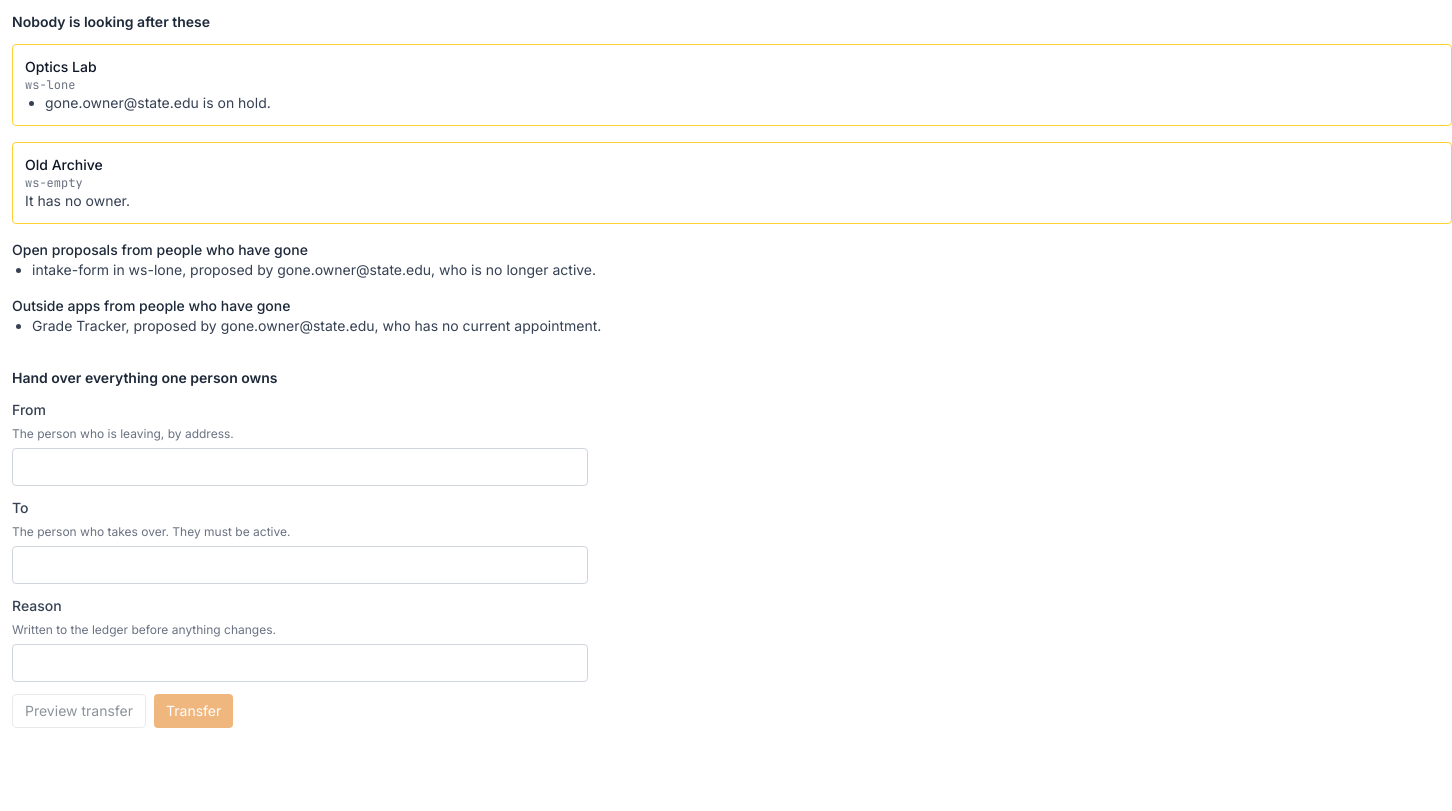
Test: Ownership › states a blocker in a sentence and keeps Transfer off
The width and height of the screenshot is (1452, 811).
Expected: the element with test id "ownership-orphans" is shown, 12,44 -> 1451,336
In the field labelled "From": (300, 467) 12,448 -> 588,486, type "gone.owner@state.edu"
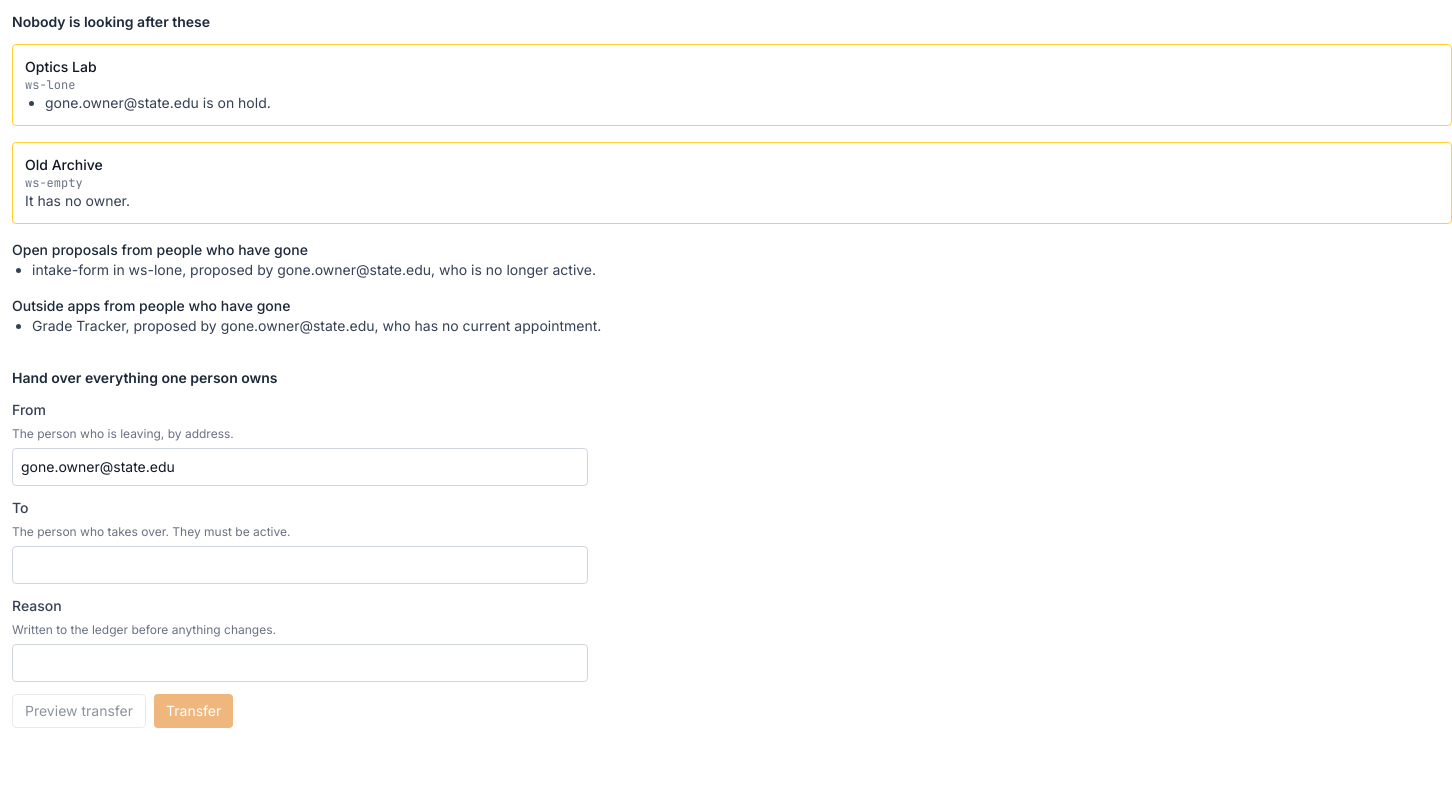
In the field labelled "To": (300, 565) 12,546 -> 588,584, type "new.owner@state.edu"
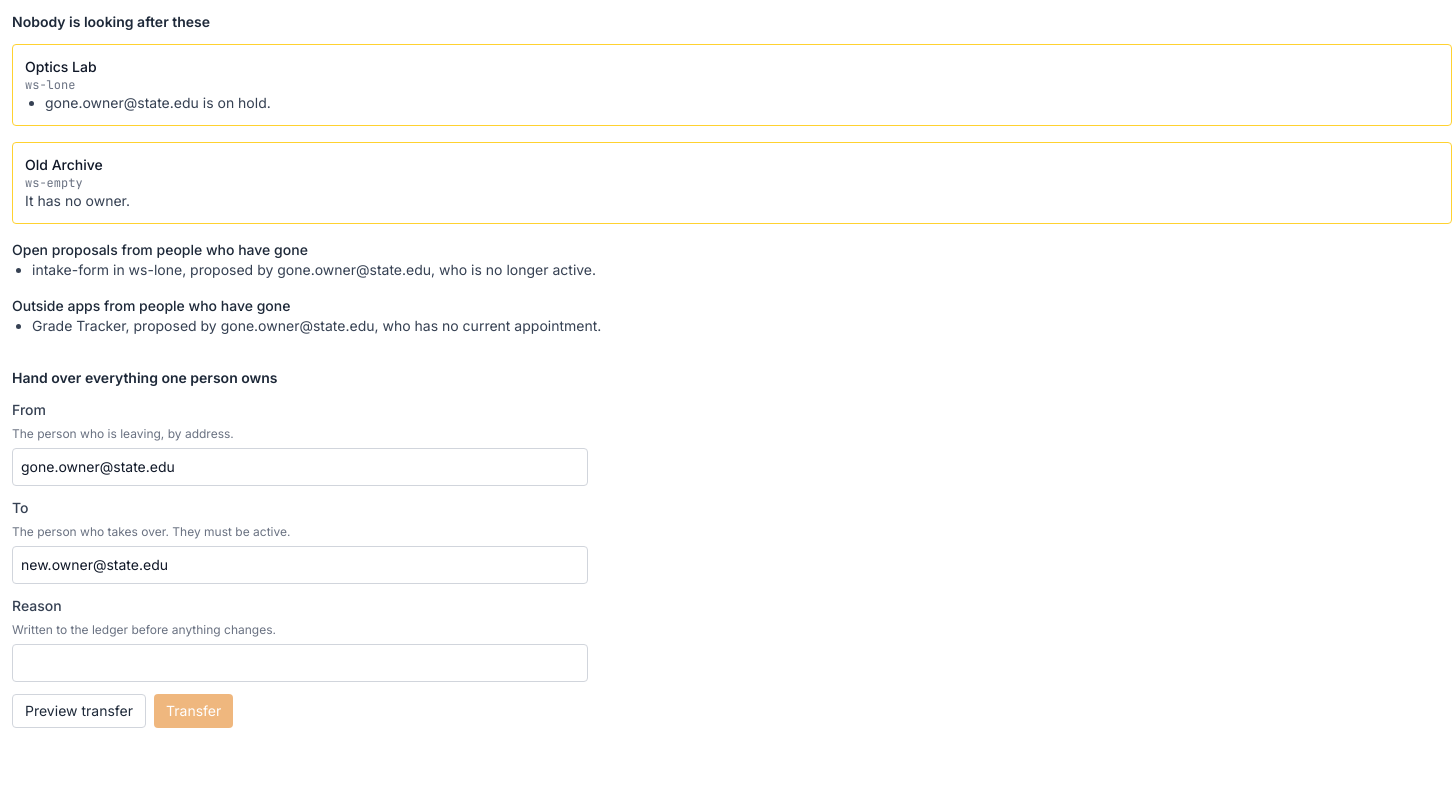
In the field labelled "Reason": (300, 663) 12,644 -> 588,682, type "Moved to another school"
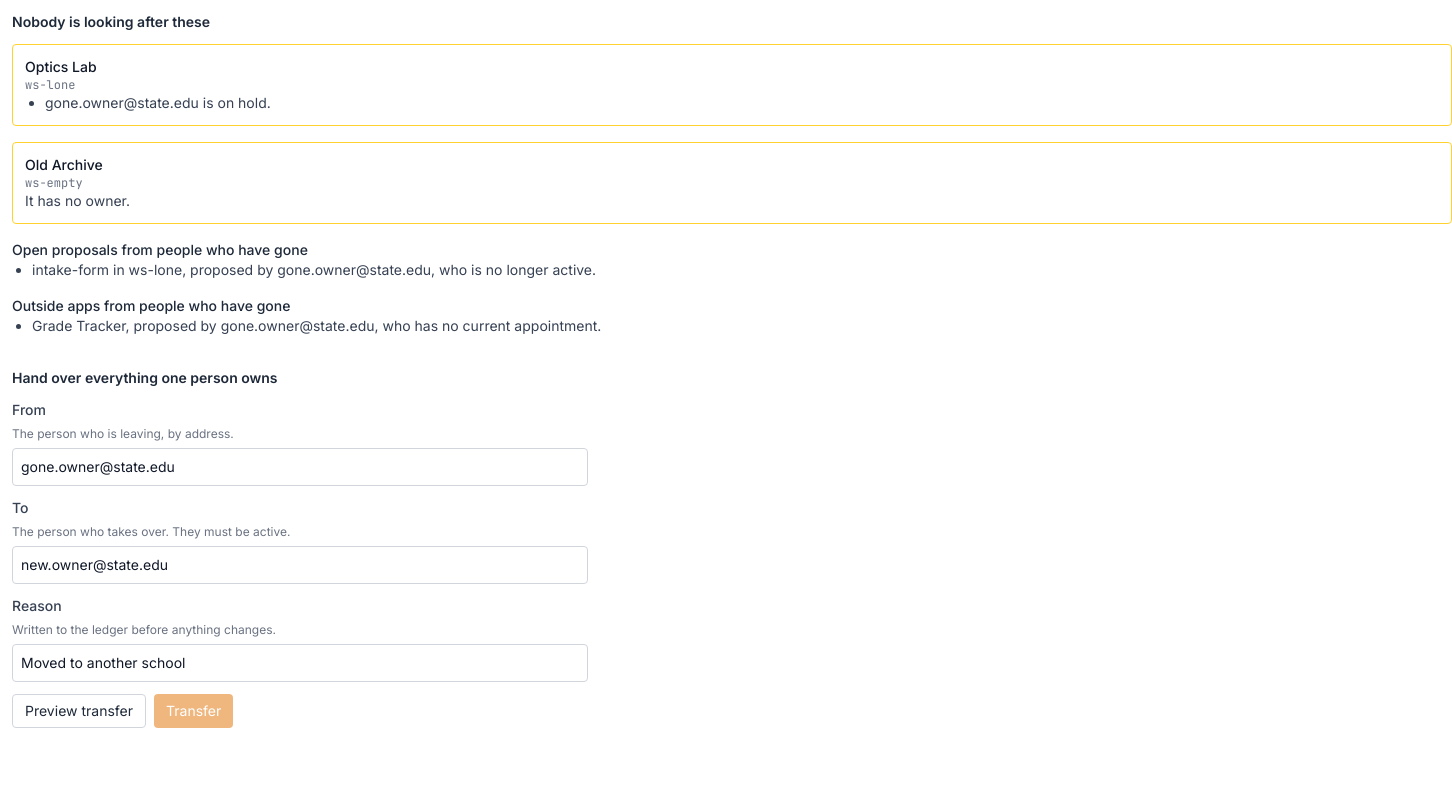
Click the button "Preview transfer": (79, 711) 12,694 -> 146,728
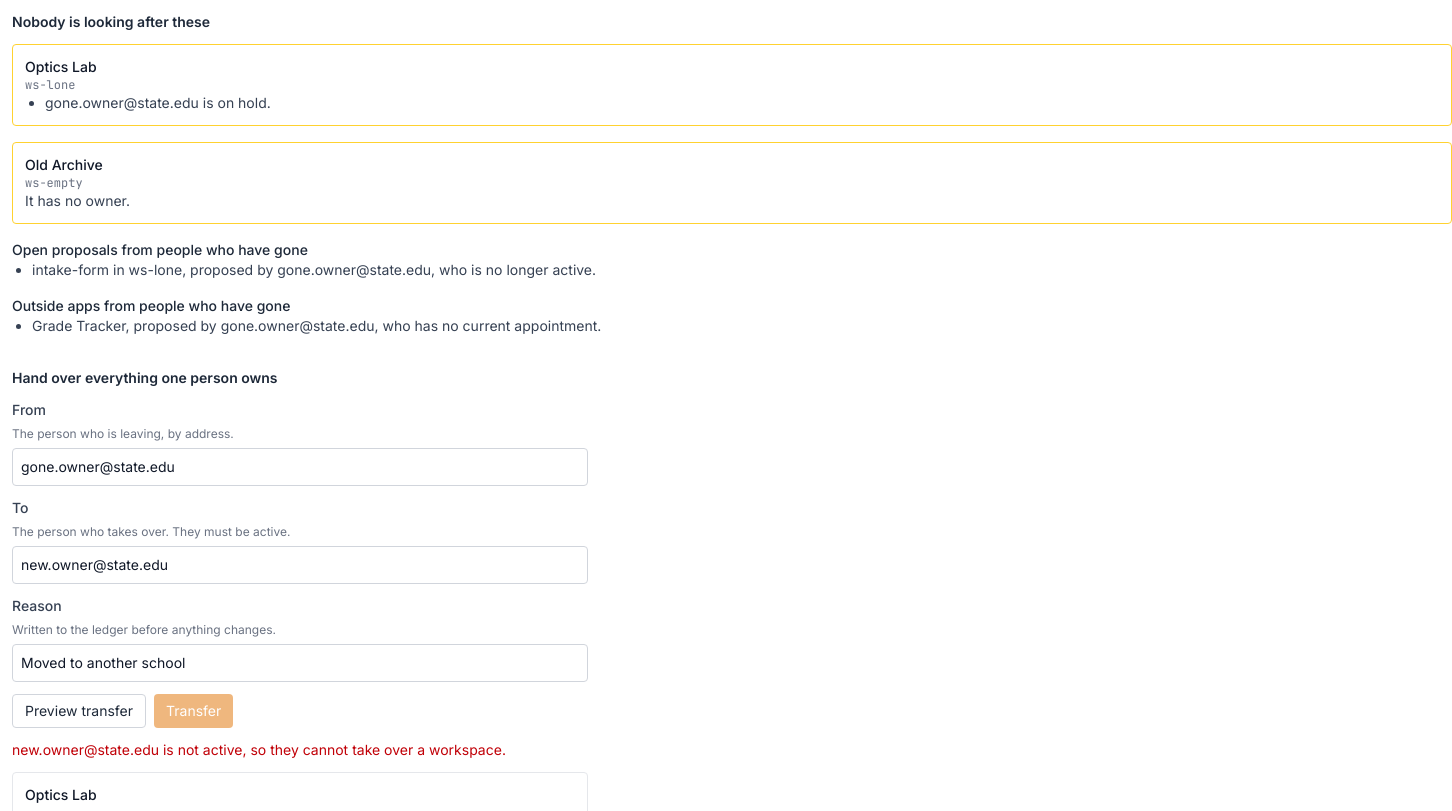
Expected: the button "Transfer" is disabled, 154,694 -> 233,728
Result: the message shows "is not active, so they cannot take over a workspace" at 12,741 -> 506,758
